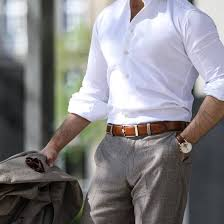F_belt: (98, 116, 197, 143)
F_shirt: (72, 4, 224, 125)
